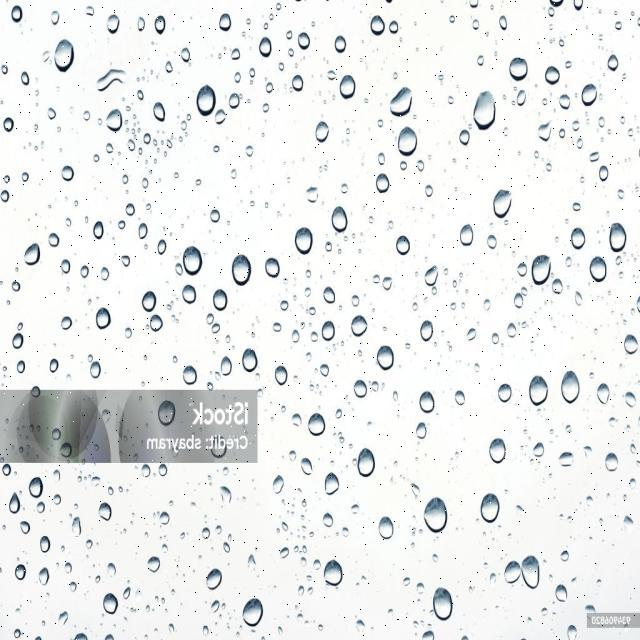raindrop: (144, 390, 182, 440), (188, 69, 223, 121), (422, 484, 452, 542), (556, 357, 584, 412), (387, 75, 418, 123), (490, 181, 520, 229), (430, 578, 460, 626), (302, 398, 332, 446), (476, 482, 504, 533), (469, 83, 498, 132), (238, 583, 266, 633), (520, 546, 546, 598), (448, 217, 476, 264), (229, 240, 255, 290), (319, 549, 347, 594), (524, 366, 550, 414), (529, 249, 555, 296), (414, 312, 443, 350), (23, 468, 52, 506), (238, 337, 262, 382), (48, 38, 78, 74), (346, 308, 374, 346), (393, 120, 418, 162), (374, 500, 398, 543), (328, 194, 352, 237), (496, 548, 520, 590), (356, 442, 380, 484), (212, 345, 237, 385), (99, 102, 125, 140), (506, 47, 531, 86), (530, 114, 556, 151), (484, 432, 514, 464), (293, 221, 317, 261), (181, 240, 206, 278), (199, 561, 226, 596), (334, 68, 360, 104), (566, 217, 591, 254), (602, 441, 624, 482), (312, 111, 334, 152), (587, 250, 612, 286), (580, 74, 603, 113), (374, 338, 398, 374), (418, 256, 442, 292), (148, 92, 170, 131), (606, 218, 629, 255), (177, 280, 200, 317), (83, 354, 108, 388), (551, 575, 573, 613), (270, 355, 292, 393), (209, 278, 231, 316), (538, 60, 562, 94), (320, 466, 344, 500), (261, 248, 284, 283), (415, 384, 437, 420), (176, 356, 200, 389), (18, 237, 42, 270), (594, 374, 617, 408), (348, 372, 373, 403), (137, 281, 159, 316), (502, 317, 526, 349), (492, 380, 514, 414), (95, 496, 117, 530), (143, 310, 169, 338), (100, 13, 125, 42), (555, 444, 579, 474), (293, 26, 317, 56), (316, 356, 336, 392), (88, 212, 106, 252), (316, 506, 337, 540), (298, 450, 320, 482), (6, 484, 28, 516), (148, 10, 170, 42), (267, 466, 286, 503), (314, 314, 337, 344), (97, 586, 119, 617), (369, 9, 388, 44), (256, 28, 276, 61), (8, 324, 28, 356), (392, 231, 414, 260), (214, 7, 236, 36), (332, 22, 351, 55), (372, 165, 392, 196), (286, 66, 306, 97), (140, 552, 162, 580), (94, 304, 115, 333), (37, 558, 56, 590), (623, 325, 640, 357), (34, 530, 51, 562), (604, 48, 622, 78), (54, 314, 76, 338), (529, 437, 549, 463), (318, 280, 338, 306), (16, 516, 36, 542), (481, 232, 502, 256), (10, 561, 28, 587), (594, 160, 609, 186), (623, 386, 638, 412), (511, 288, 526, 314)
